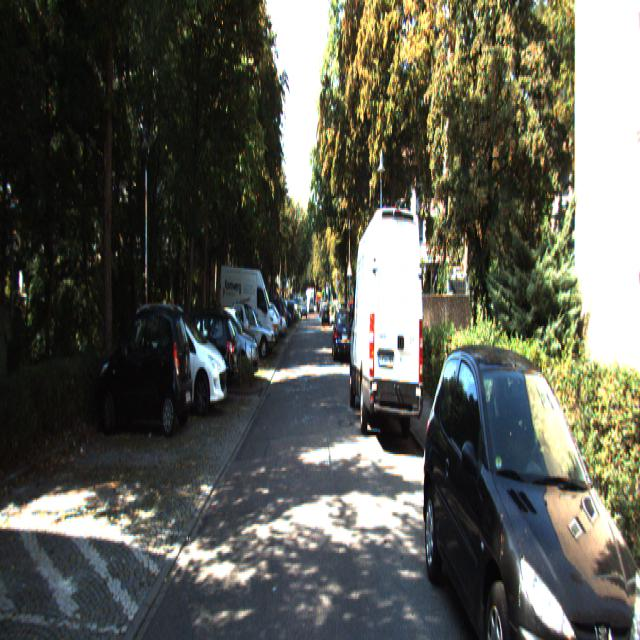Car: (422, 333, 640, 638), (350, 203, 424, 446), (96, 301, 194, 438), (131, 299, 228, 423), (150, 302, 239, 403), (218, 264, 280, 362), (226, 306, 275, 363), (333, 311, 355, 367)
